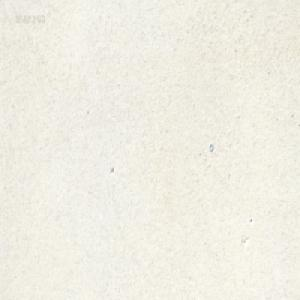Washer: (208, 142, 213, 152)
